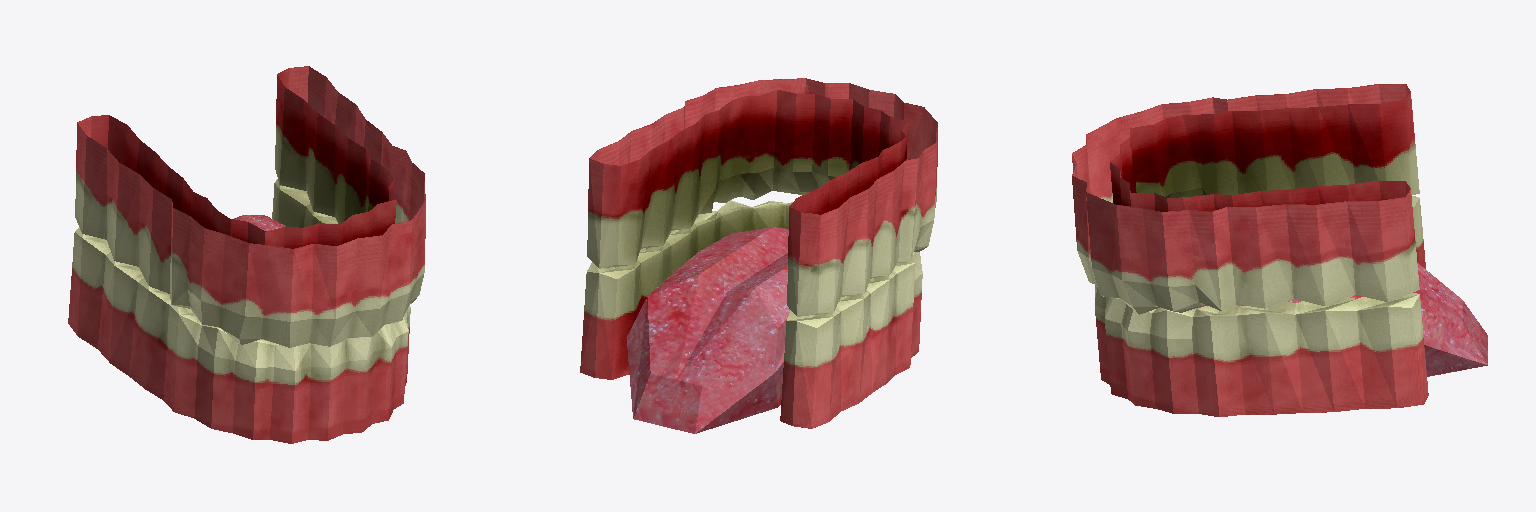
The picture shows the model from 3 angles: view 1: azimuth 30°, elevation 25°; view 2: azimuth 150°, elevation 25°; view 3: azimuth 270°, elevation 25°; orthographic projection.
Visible parts, largest first — view 1: zombie_teeth_mesh; view 2: zombie_teeth_mesh; view 3: zombie_teeth_mesh.
Boxes of the visible parts, x1,y1,x2,y2 form: zombie_teeth_mesh: [68, 66, 425, 443]; zombie_teeth_mesh: [580, 78, 937, 433]; zombie_teeth_mesh: [1072, 84, 1487, 416].
Bounding box in the file's own units: 0.0588 × 0.0544 × 0.0885.
Materials: 1 (1 with a texture image).